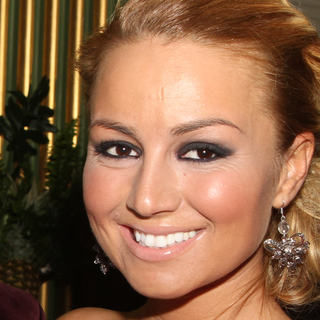eye: (174, 140, 229, 167), (97, 138, 143, 164)
